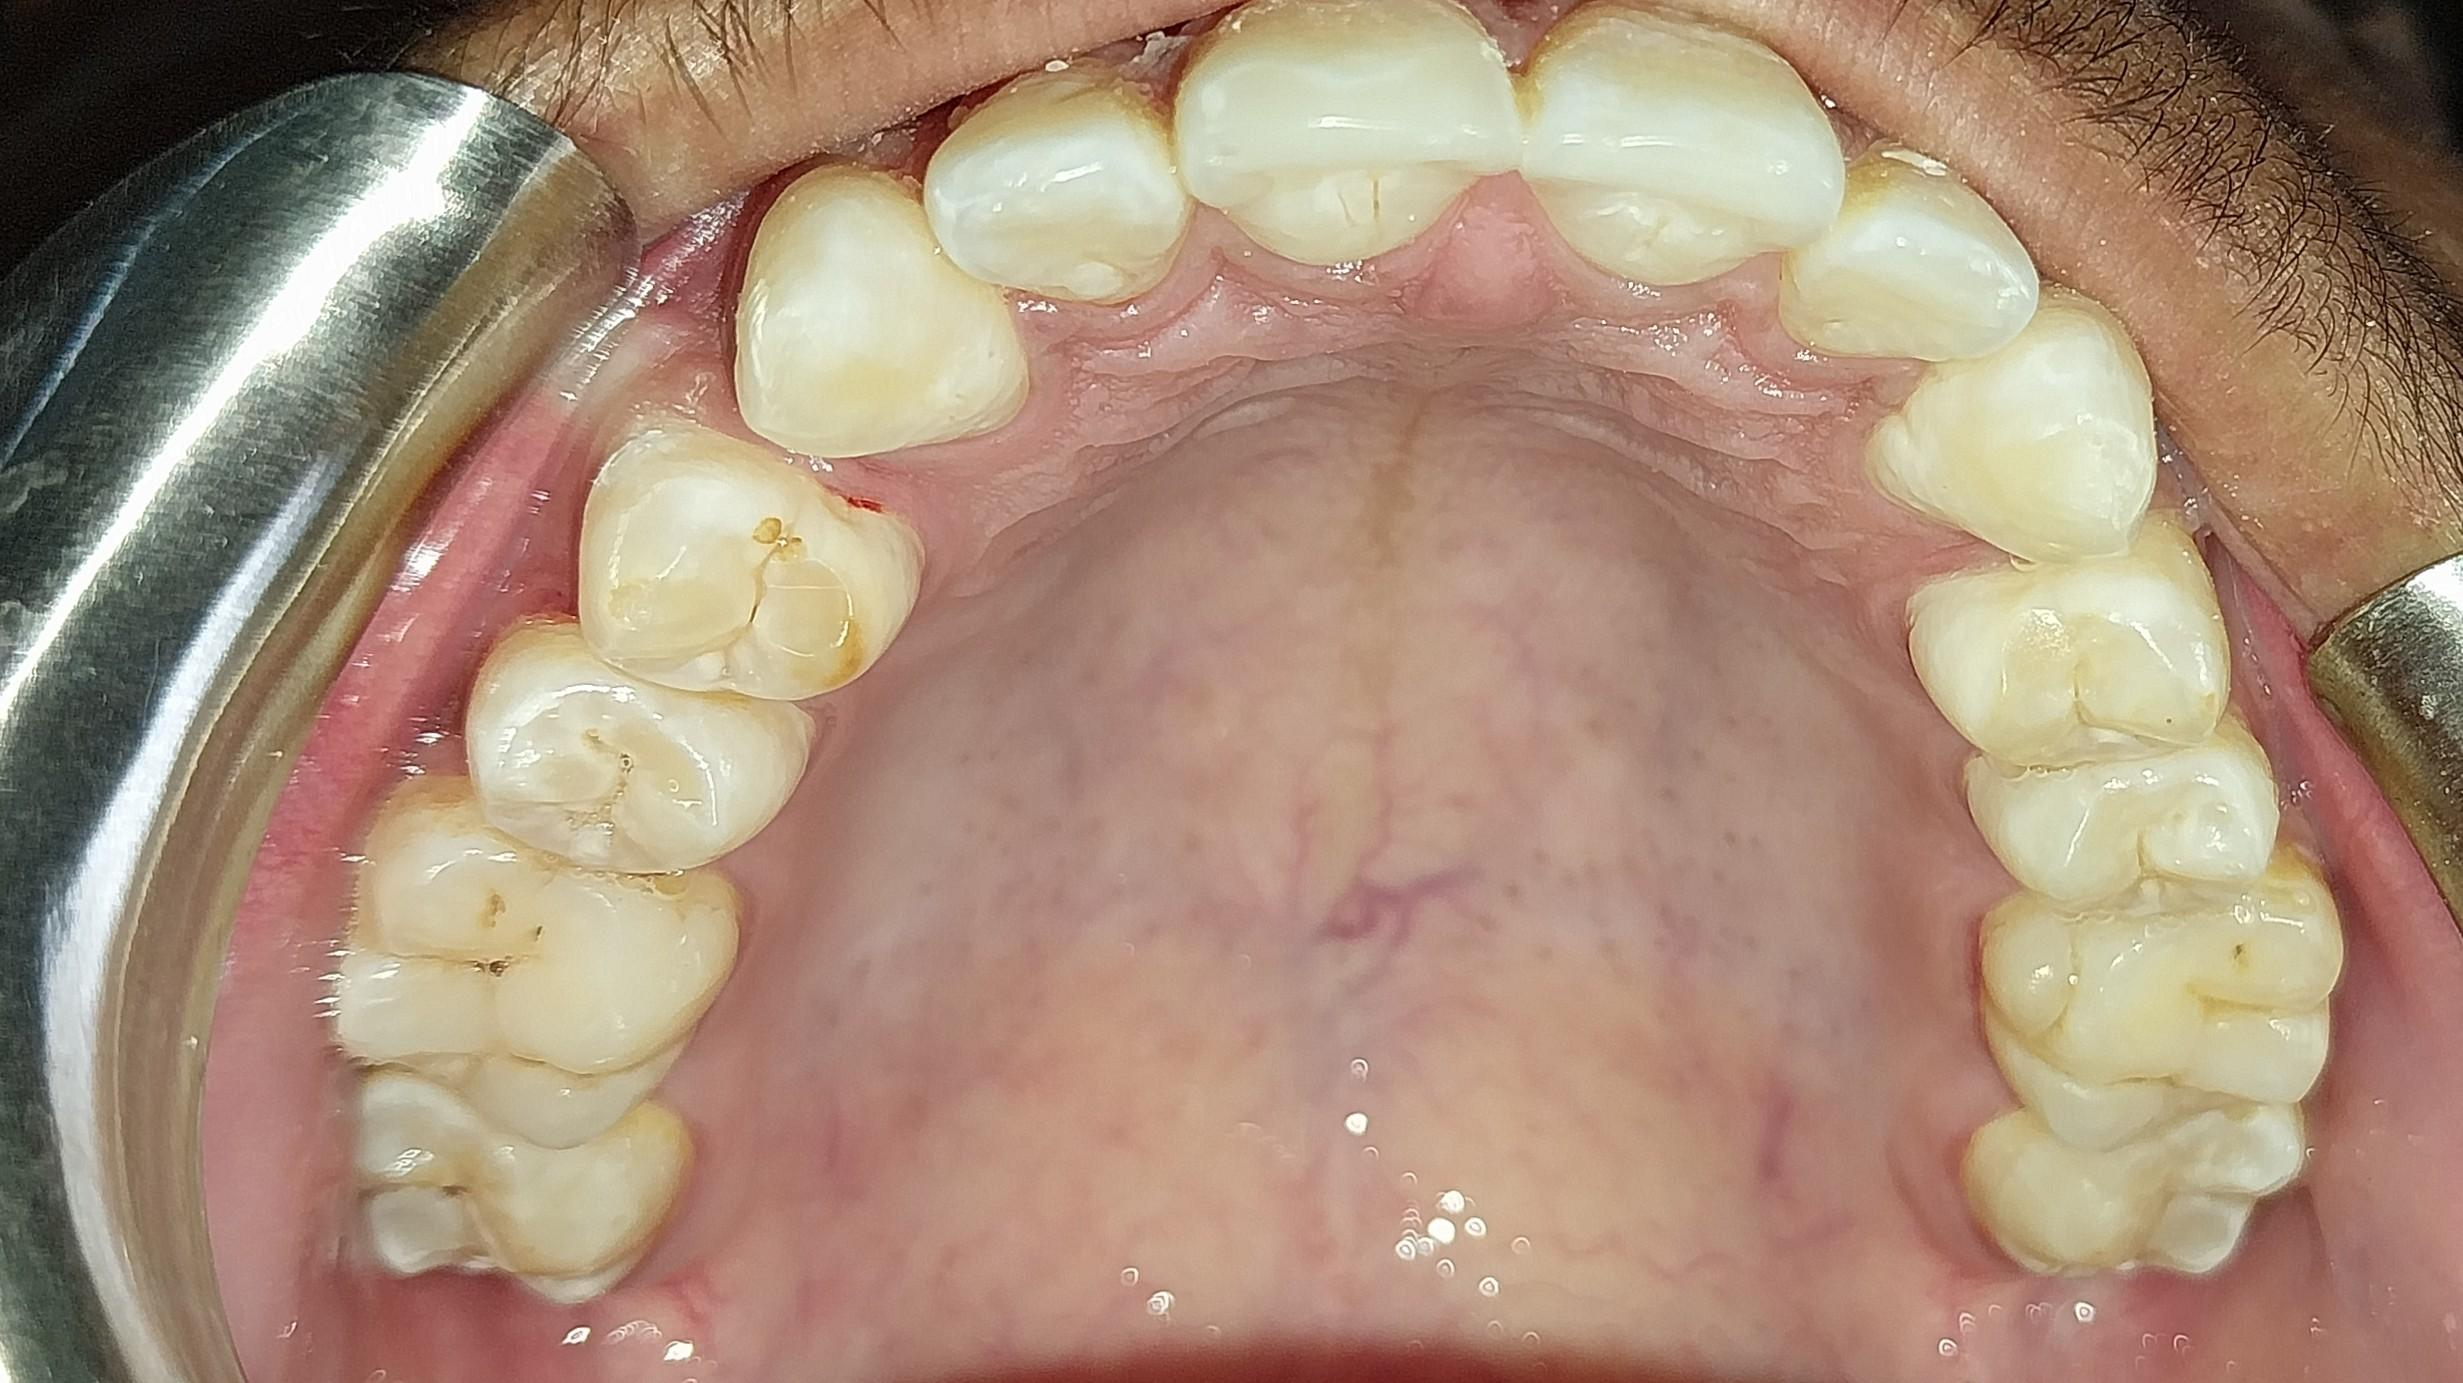D: (325, 773, 729, 1150)
